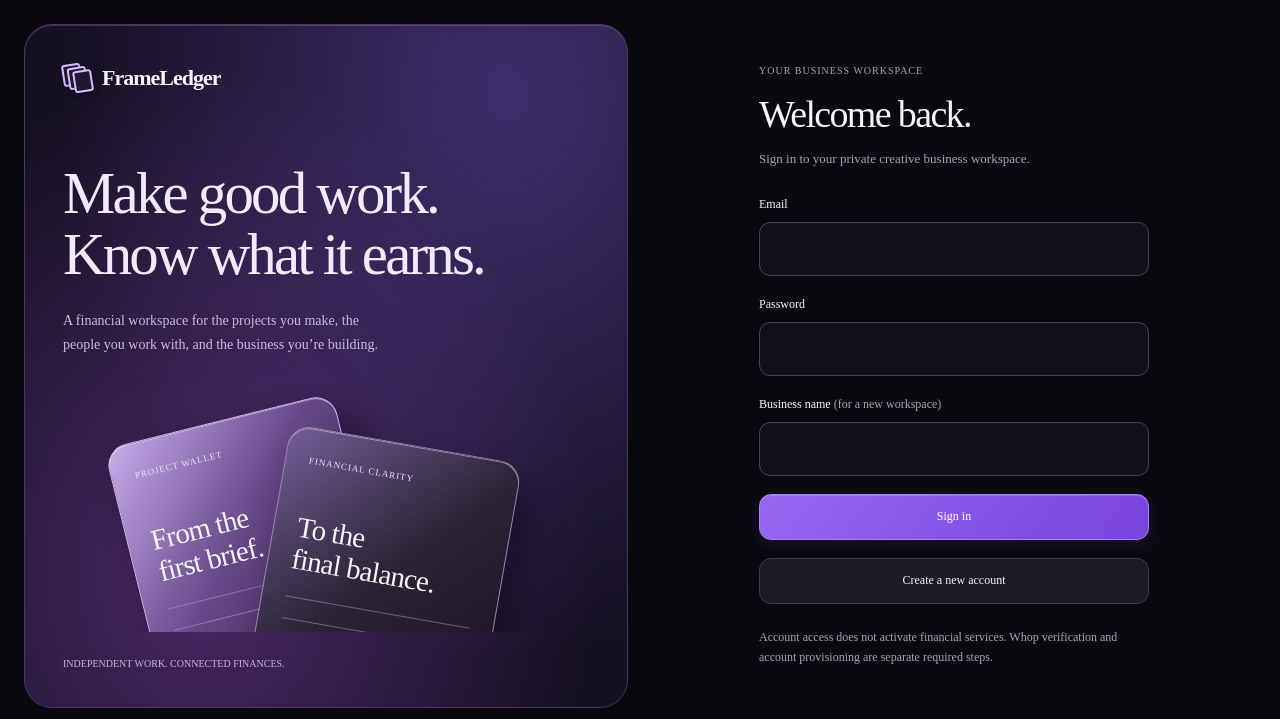
Test: Supabase sign-in boundary (mocked provider) › keeps email confirmation separate from workspace activation
Click the button "Create a new account" at (954, 581), box [759,558,1149,604]
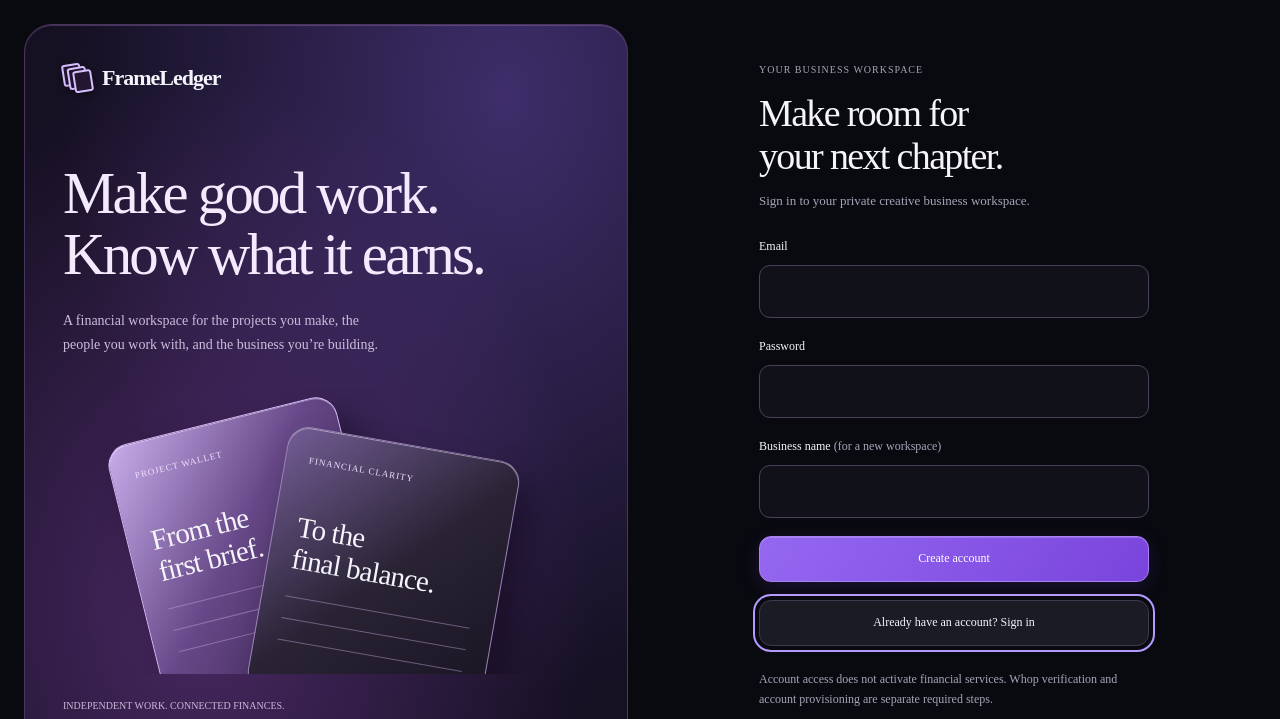
Type "creator@example.com" into the field labelled "Email" at (954, 291), box [759,265,1149,318]
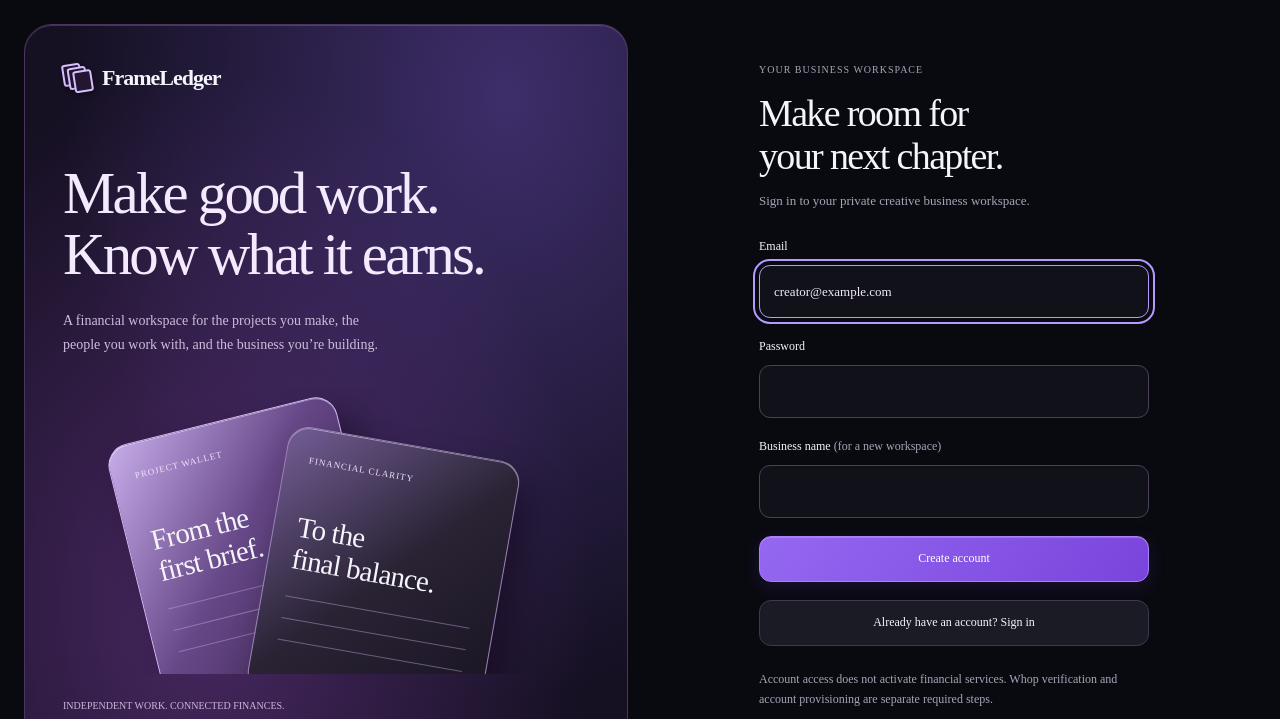
Type "long-test-password" into the password field labelled "Password" at (954, 391), box [759,364,1149,418]
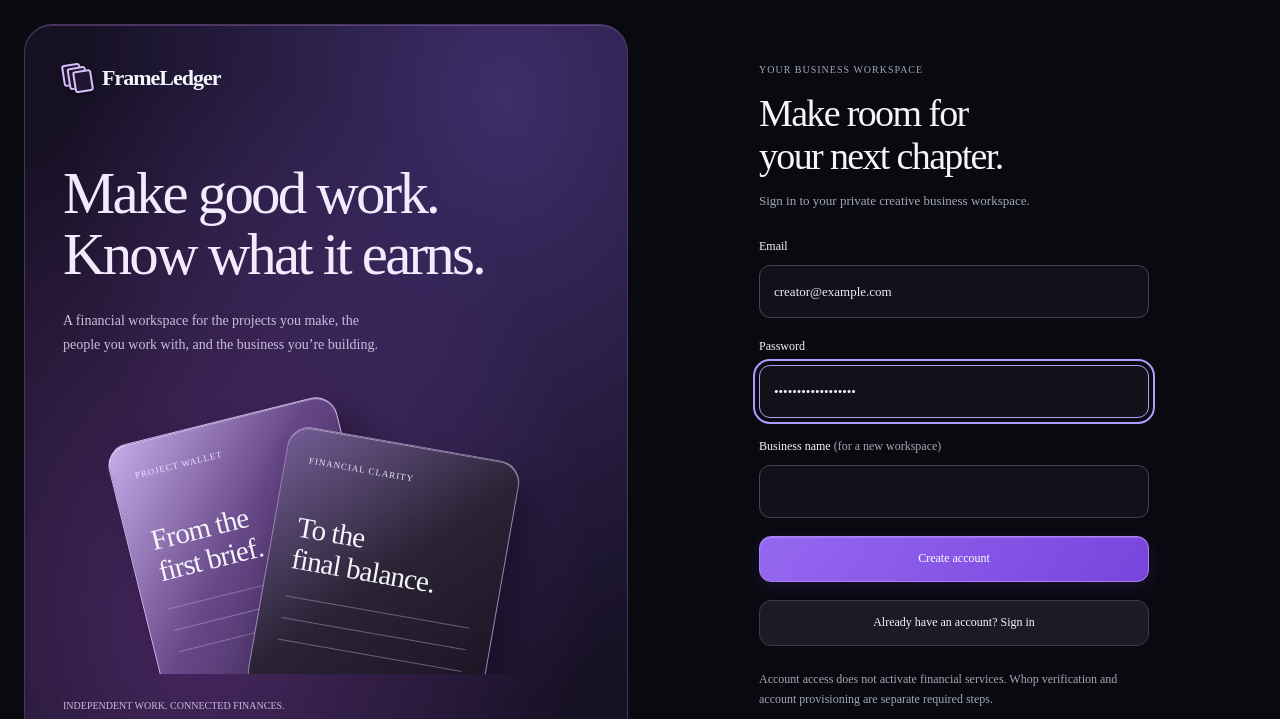
Click the button "Create account" at (954, 559), box [759,536,1149,582]
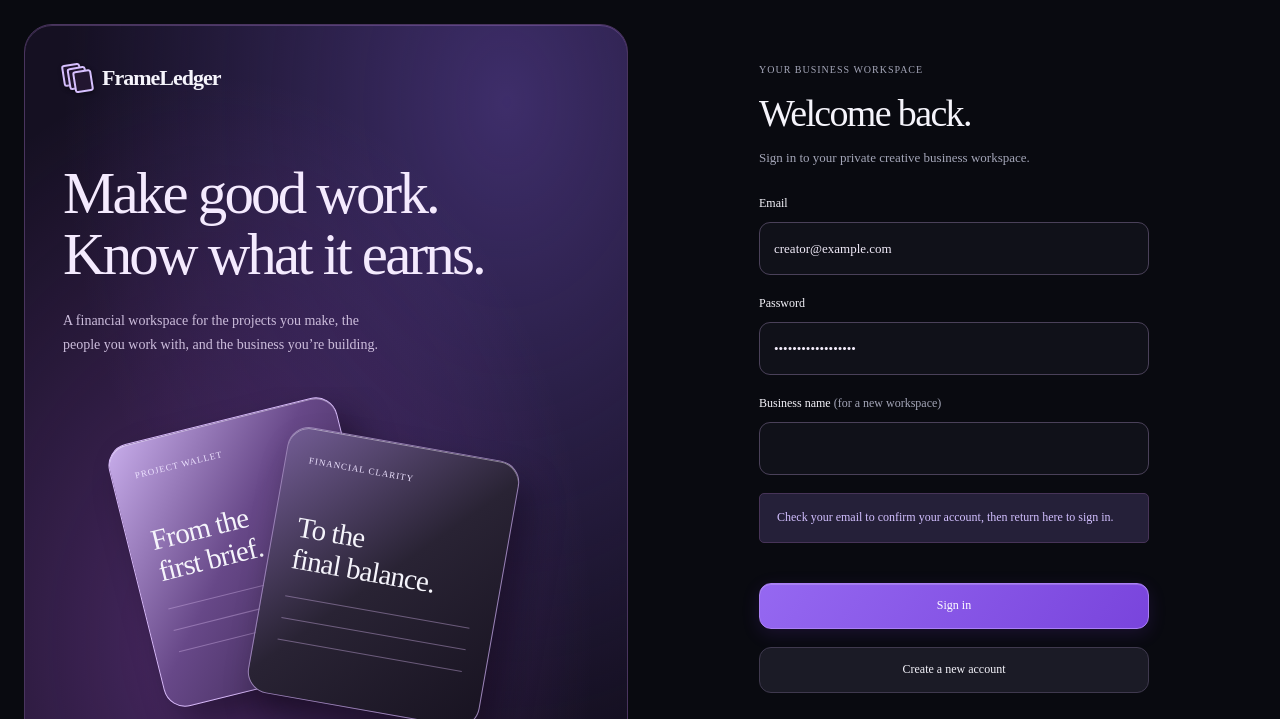
expect the message shows "Check your email": met, box [777,510,1114,524]
